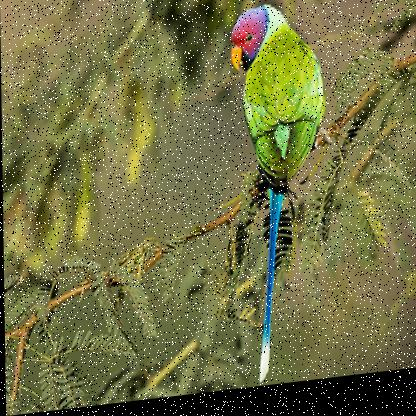Burung: (229, 5, 327, 391)
